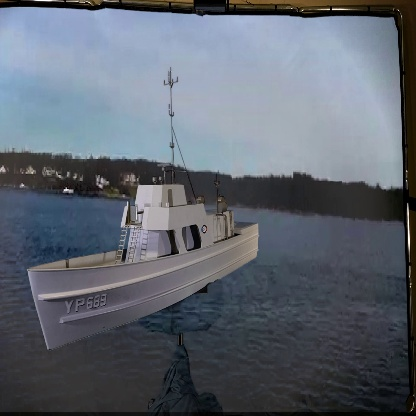YP689: (25, 67, 261, 353)
